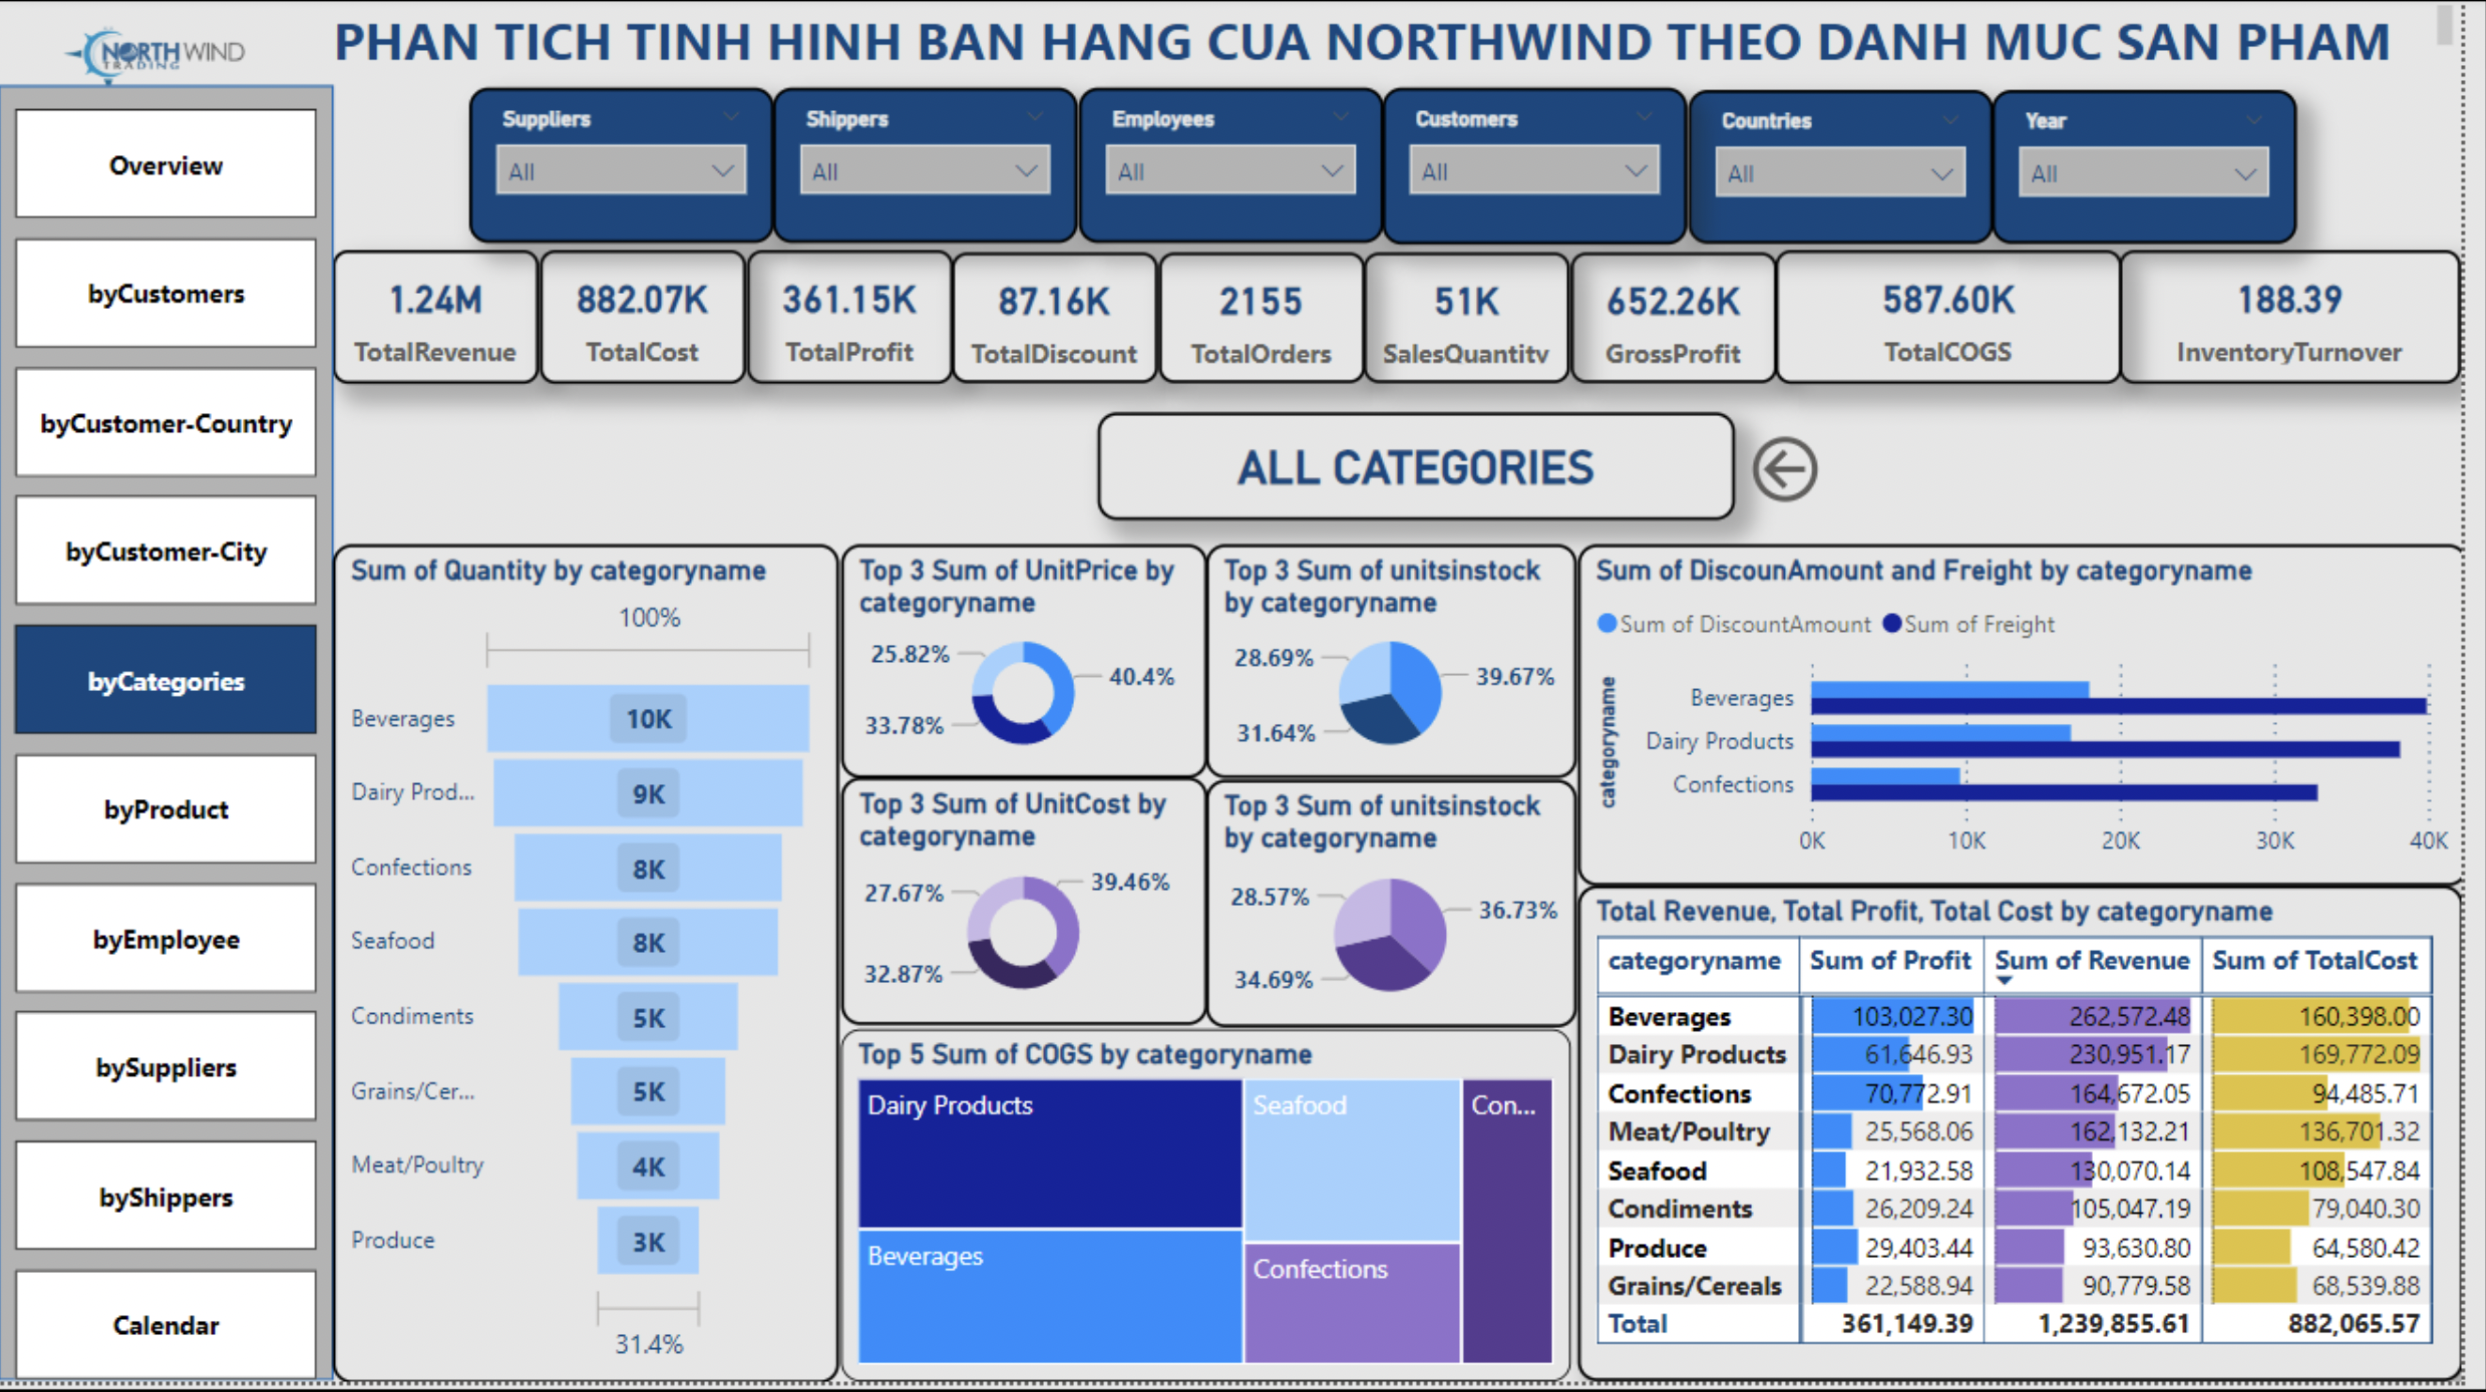

The dashboard page shown, as its layout file describes it:
{"tool":"powerbi","page":{"name":"byCategories","canvas":[1280,720],"ordinal":4},"visuals":[{"type":"card","fields":{"Values":["FactOrders.TotalRevenue"]},"box":[174.2,132.1,107,69.5],"z":0},{"type":"card","fields":{"Values":["FactOrders.TotalProfit"]},"box":[388.3,132.1,107,69.5],"z":1000},{"type":"card","fields":{"Values":["Sum(FactOrders.TotalCost)"]},"box":[281.3,132.1,107,69.5],"z":2000},{"type":"card","fields":{"Values":["FactOrders.TotalDiscount"]},"box":[495.4,133.2,107,68.3],"z":3000},{"type":"card","fields":{"Values":["FactOrders.GrossProfit"]},"box":[816.5,133.2,107,68.3],"z":4000},{"type":"card","fields":{"Values":["Sum(FactOrders.Quantity)"]},"box":[709.5,133.2,107,68.3],"z":5000},{"type":"card","fields":{"Values":["FactOrders.InventoryTurnover"]},"box":[1102.3,132.1,177.7,69.5],"z":6000},{"type":"card","fields":{"Values":["FactOrders.TotalCOGS"]},"box":[923.6,132.1,179.9,69.5],"z":7000},{"type":"textbox","box":[145.8,0,1134.2,47.8],"z":8000},{"type":"card","fields":{"Values":["CountNonNull(FactOrders.OrderID)"]},"box":[602.4,133.2,107,68.3],"z":9000},{"type":"image","box":[10,10,157.2,47.8],"z":10000},{"type":"shape","box":[0,46.7,174.2,673],"z":11000},{"type":"pageNavigator","box":[9.1,59.2,157.2,660.5],"z":12000},{"type":"slicer","title":"Total Profit by Employees","fields":{"Values":["employees.fullname"]},"box":[244.3,47.3,158.3,80.9],"z":13000},{"type":"slicer","title":"Total Profit by Employees","fields":{"Values":["suppliers.companyname"]},"box":[402.6,47.3,158.3,80.9],"z":14000},{"type":"slicer","title":"Total Profit by Employees","fields":{"Values":["employees.fullname"]},"box":[560.9,47.3,158.3,80.9],"z":15000},{"type":"slicer","title":"Total Profit by Employees","fields":{"Values":["categories.categoryname"]},"box":[877.4,48.4,158.3,79.7],"z":16000},{"type":"slicer","title":"Total Profit by Employees","fields":{"Values":["shippers.companyname"]},"box":[1035.7,48.4,158.3,79.7],"z":17000},{"type":"card","title":"TotalRevenue, TotalProfit, Total Discount by Customer","fields":{"Values":["categories.selectedCategories"]},"box":[570.5,216.4,331.4,55.8],"z":18000},{"type":"actionButton","box":[906.5,223.2,100.2,44.4],"z":19000},{"type":"slicer","title":"Total Profit by Employees","fields":{"Values":["customers.contactname"]},"box":[719.1,47.3,158.3,82],"z":20000},{"type":"pivotTable","title":"Total Revenue, Total Profit, Total Cost by categoryname","fields":{"Rows":["categories.categoryname"],"Values":["Sum(FactOrders.Profit)","Sum(FactOrders.Revenue)","Sum(FactOrders.TotalCost)"]},"box":[819.9,462.3,460.1,257.4],"z":21000},{"type":"donutChart","title":"Top 3 Sum of UnitPrice by categoryname","fields":{"Category":["categories.categoryname"],"Y":["Sum(FactOrders.UnitPrice)"]},"box":[437.3,284.7,190.2,121.9],"z":22000},{"type":"donutChart","title":"Top 3 Sum of UnitCost by categoryname","fields":{"Category":["categories.categoryname"],"Y":["Sum(products.unitcost)"]},"box":[437.3,406.5,190.2,128.7],"z":23000},{"type":"pieChart","title":"Top 3 Sum of unitsinstock by categoryname","fields":{"Category":["categories.categoryname"],"Y":["Sum(products.unitsinstock)"]},"box":[627.5,284.7,192.5,121.9],"z":24000},{"type":"pieChart","title":"Top 3 Sum of unitsinstock by categoryname","fields":{"Category":["categories.categoryname"],"Y":["Sum(products.unitsonorder)"]},"box":[627.5,407.7,192.5,128.7],"z":25000},{"type":"clusteredBarChart","title":"Sum of DiscounAmount and Freight by categoryname","fields":{"Category":["categories.categoryname"],"Y":["Sum(FactOrders.DiscountAmount)","Sum(FactOrders.Freight)"]},"box":[819.9,284.7,462.3,177.7],"z":26000},{"type":"funnel","fields":{"Y":["Sum(FactOrders.Quantity)"],"Category":["categories.categoryname"]},"box":[174.2,284.7,263.1,436.2],"z":27000},{"type":"treemap","title":"Top 5 Sum of COGS by categoryname","fields":{"Group":["categories.categoryname"],"Values":["Sum(FactOrders.COGS)"]},"box":[437.3,536.4,379.2,183.3],"z":28000}]}

Visuals, with their boxes in screenshot pixels (x1, y1, x2, y2), scaled from the page's 1280x720 canvas onto the 2486x1392 screenshot:
card - FactOrders.TotalRevenue: x1=338, y1=255, x2=546, y2=390
card - FactOrders.TotalProfit: x1=754, y1=255, x2=962, y2=390
card - Sum(FactOrders.TotalCost): x1=546, y1=255, x2=754, y2=390
card - FactOrders.TotalDiscount: x1=962, y1=258, x2=1170, y2=390
card - FactOrders.GrossProfit: x1=1586, y1=258, x2=1794, y2=390
card - Sum(FactOrders.Quantity): x1=1378, y1=258, x2=1586, y2=390
card - FactOrders.InventoryTurnover: x1=2141, y1=255, x2=2485, y2=390
card - FactOrders.TotalCOGS: x1=1794, y1=255, x2=2143, y2=390
textbox: x1=283, y1=0, x2=2485, y2=92
card - CountNonNull(FactOrders.OrderID): x1=1170, y1=258, x2=1378, y2=390
image: x1=19, y1=19, x2=325, y2=112
shape: x1=0, y1=90, x2=338, y2=1391
pageNavigator: x1=18, y1=114, x2=323, y2=1391
"Total Profit by Employees" slicer: x1=474, y1=91, x2=782, y2=248
"Total Profit by Employees" slicer: x1=782, y1=91, x2=1089, y2=248
"Total Profit by Employees" slicer: x1=1089, y1=91, x2=1397, y2=248
"Total Profit by Employees" slicer: x1=1704, y1=94, x2=2012, y2=248
"Total Profit by Employees" slicer: x1=2012, y1=94, x2=2319, y2=248
"TotalRevenue, TotalProfit, Total Discount by Customer" card: x1=1108, y1=418, x2=1752, y2=526
actionButton: x1=1761, y1=432, x2=1955, y2=517
"Total Profit by Employees" slicer: x1=1397, y1=91, x2=1704, y2=250
"Total Revenue, Total Profit, Total Cost by categoryname" pivotTable: x1=1592, y1=894, x2=2485, y2=1391
"Top 3 Sum of UnitPrice by categoryname" donutChart: x1=849, y1=550, x2=1219, y2=786
"Top 3 Sum of UnitCost by categoryname" donutChart: x1=849, y1=786, x2=1219, y2=1035
"Top 3 Sum of unitsinstock by categoryname" pieChart: x1=1219, y1=550, x2=1593, y2=786
"Top 3 Sum of unitsinstock by categoryname" pieChart: x1=1219, y1=788, x2=1593, y2=1037
"Sum of DiscounAmount and Freight by categoryname" clusteredBarChart: x1=1592, y1=550, x2=2485, y2=894
funnel - Sum(FactOrders.Quantity) x categories.categoryname: x1=338, y1=550, x2=849, y2=1391
"Top 5 Sum of COGS by categoryname" treemap: x1=849, y1=1037, x2=1586, y2=1391
